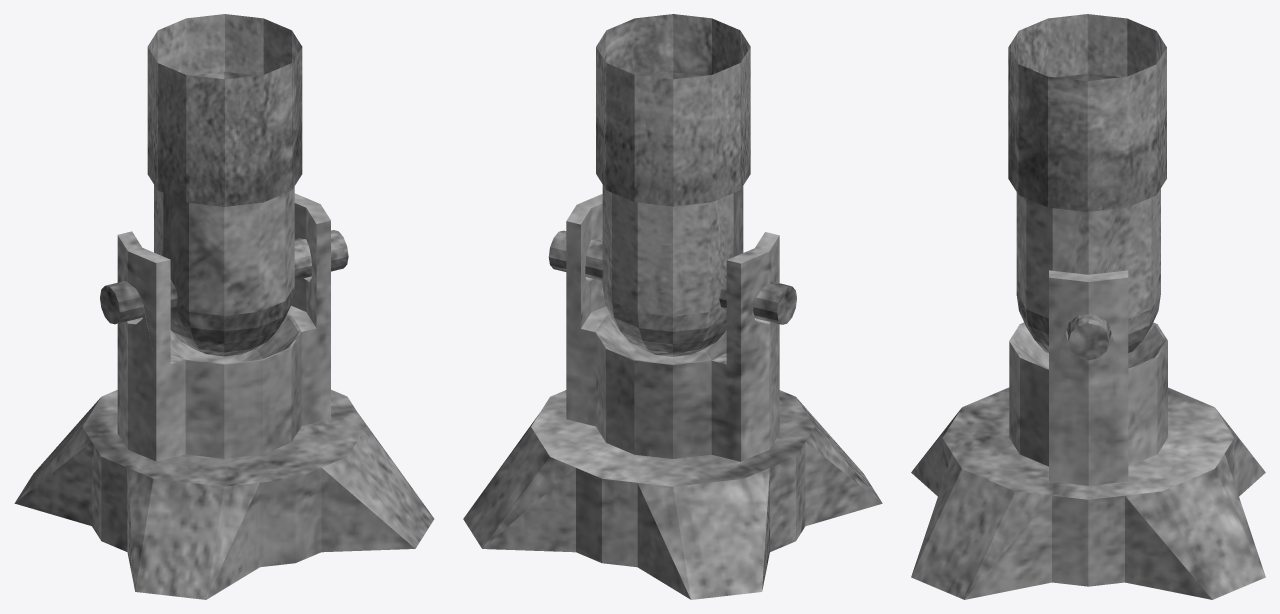
File: WallGunBase2.obj
The picture shows the model from 3 angles, left to right: view 1: azimuth 30°, elevation 25°; view 2: azimuth 150°, elevation 25°; view 3: azimuth 270°, elevation 25°; orthographic projection. The views are drawn at different scales.
Parts seen in each view (by area): view 1: Cube.001_Cube.001_Material.001, Cube.003_Cube.003_Material.001, Cube.002_Cube.002_Material.001; view 2: Cube.001_Cube.001_Material.001, Cube.003_Cube.003_Material.001, Cube.002_Cube.002_Material.001; view 3: Cube.001_Cube.001_Material.001, Cube.003_Cube.003_Material.001, Cube.002_Cube.002_Material.001.
Boxes of the visible parts, bbox=[...] form: Cube.001_Cube.001_Material.001: bbox=[14, 193, 434, 599]; Cube.003_Cube.003_Material.001: bbox=[147, 14, 302, 206]; Cube.002_Cube.002_Material.001: bbox=[100, 71, 348, 356]; Cube.001_Cube.001_Material.001: bbox=[463, 194, 882, 599]; Cube.003_Cube.003_Material.001: bbox=[596, 14, 750, 206]; Cube.002_Cube.002_Material.001: bbox=[548, 72, 796, 356]; Cube.001_Cube.001_Material.001: bbox=[911, 270, 1265, 599]; Cube.003_Cube.003_Material.001: bbox=[1008, 14, 1166, 211]; Cube.002_Cube.002_Material.001: bbox=[1016, 73, 1160, 360].
Size of the model in its own units: 4.91 by 7.29 by 4.91.
